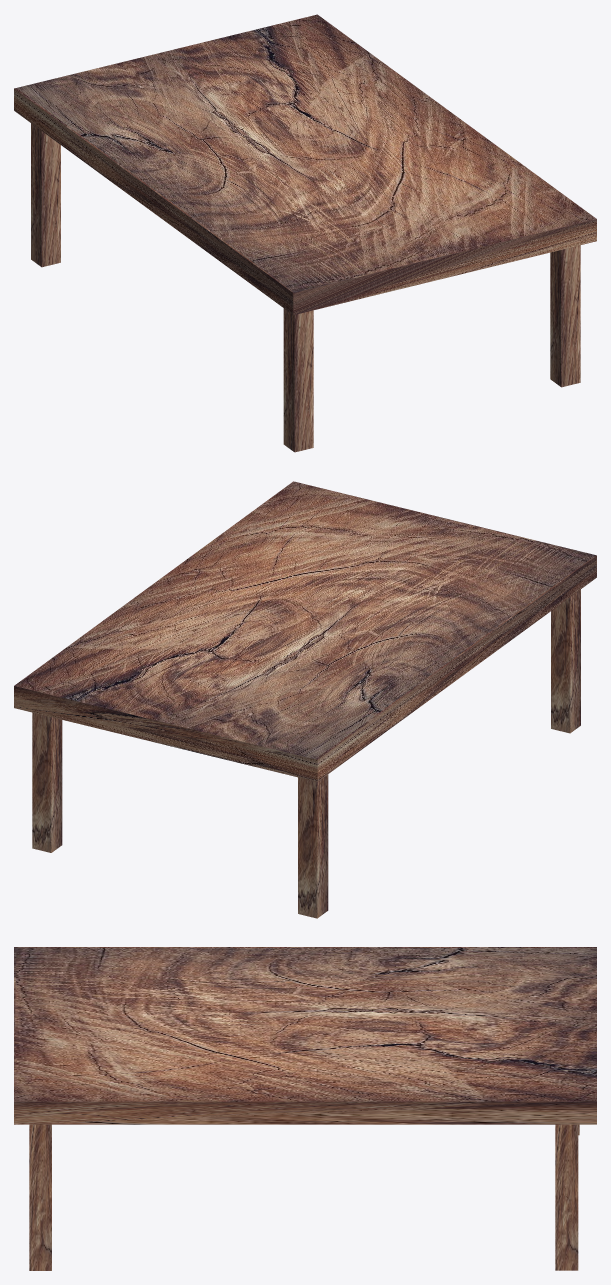
File: table.glb
3 views of the same model, one above another, from view 1: azimuth 30°, elevation 25°; view 2: azimuth 150°, elevation 25°; view 3: azimuth 270°, elevation 25° (orthographic). The views are drawn at different scales.
Visible parts, largest first — view 1: Tisch; view 2: Tisch; view 3: Tisch.
Boxes of the visible parts, x1,y1,x2,y2 form: Tisch: [14, 14, 596, 452]; Tisch: [14, 481, 596, 918]; Tisch: [14, 947, 596, 1270].
Size of the model in its own units: 4.19 by 2.2 by 6.69.
5 materials, 5 textured.
